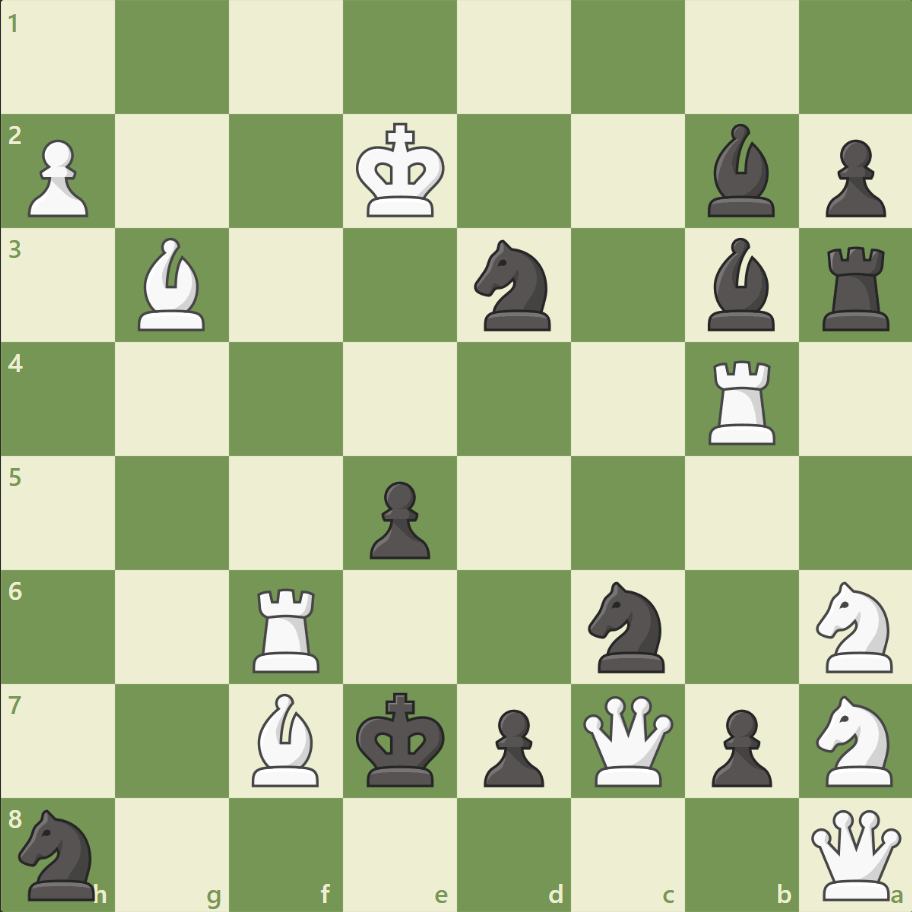B: (244, 687, 328, 790), (131, 233, 215, 336)
K: (351, 117, 451, 225)
N: (806, 688, 903, 791), (806, 575, 903, 677)
P: (20, 132, 95, 223)
Q: (805, 804, 904, 903), (578, 690, 677, 789)
R: (246, 579, 329, 676), (700, 352, 783, 449)
b: (698, 233, 782, 336), (698, 120, 782, 222)
k: (351, 685, 451, 793)
n: (465, 234, 562, 337), (11, 802, 108, 904), (579, 575, 676, 677)
p: (701, 700, 776, 791), (474, 700, 549, 791), (361, 473, 435, 564), (815, 132, 889, 223)
r: (814, 239, 897, 336)
